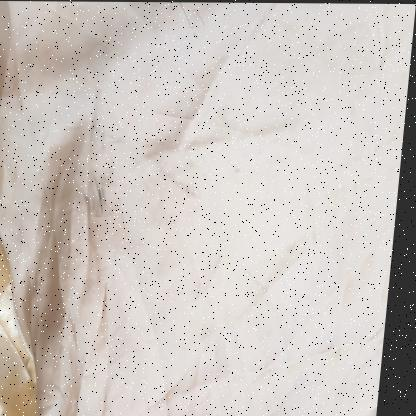spot: (83, 170, 109, 218), (104, 175, 112, 211), (190, 184, 205, 200), (158, 157, 171, 174), (66, 122, 85, 133), (112, 133, 125, 148), (75, 204, 90, 213), (183, 179, 192, 192), (237, 163, 246, 174), (175, 177, 186, 185), (103, 128, 110, 140), (104, 139, 112, 149)
